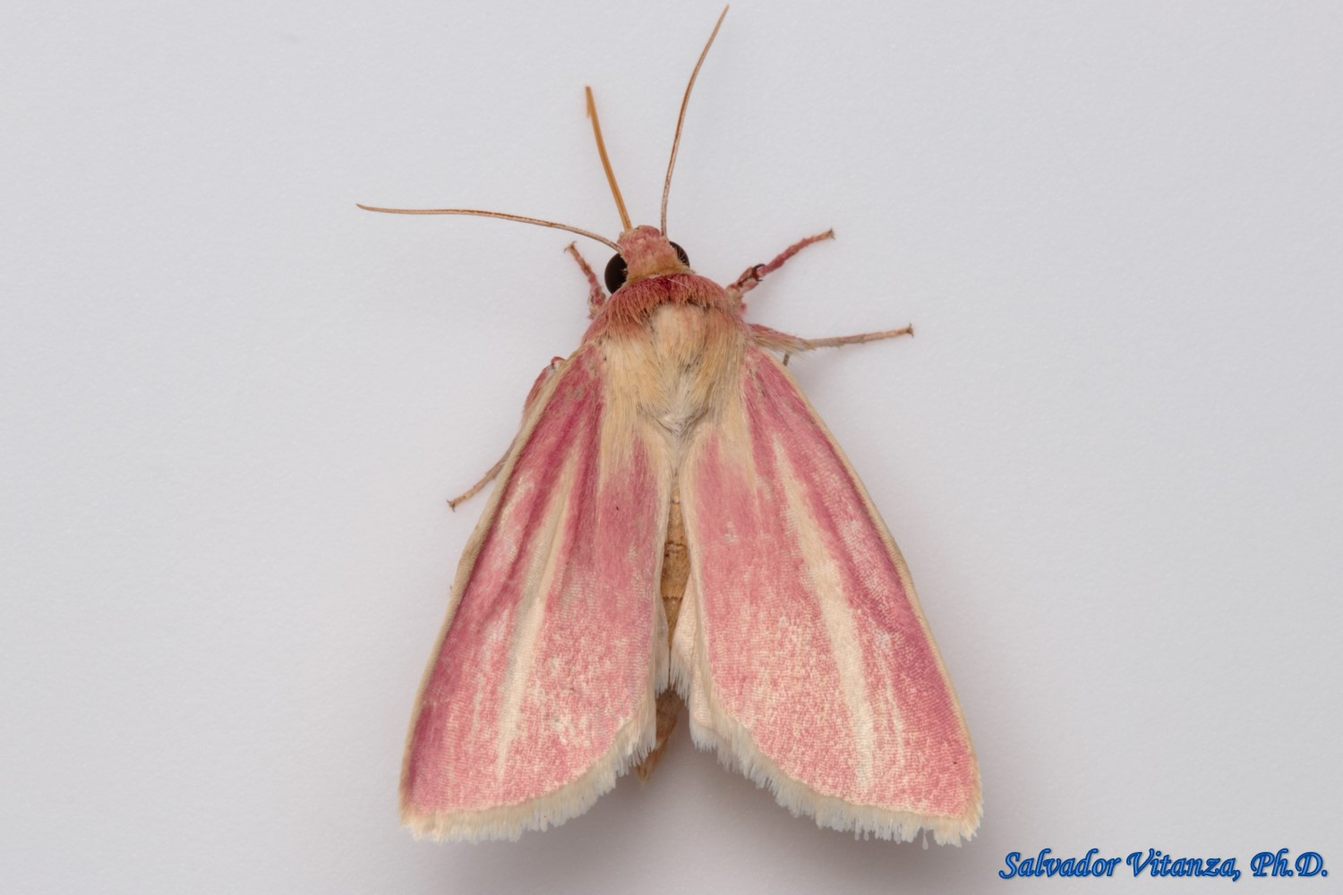Noctuidae: (346, 4, 978, 846)
